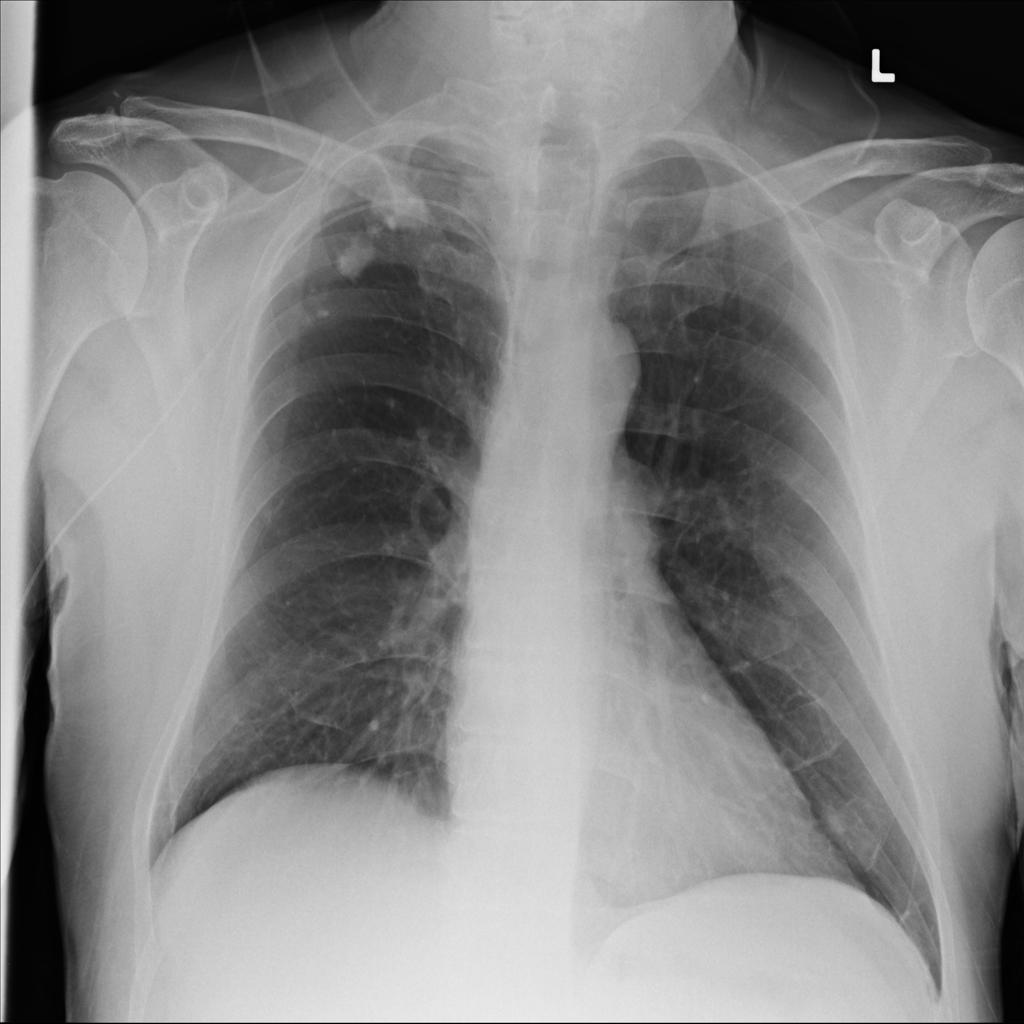nodule: (362, 161, 443, 243), (322, 218, 390, 292), (811, 796, 860, 849), (296, 286, 345, 337)
